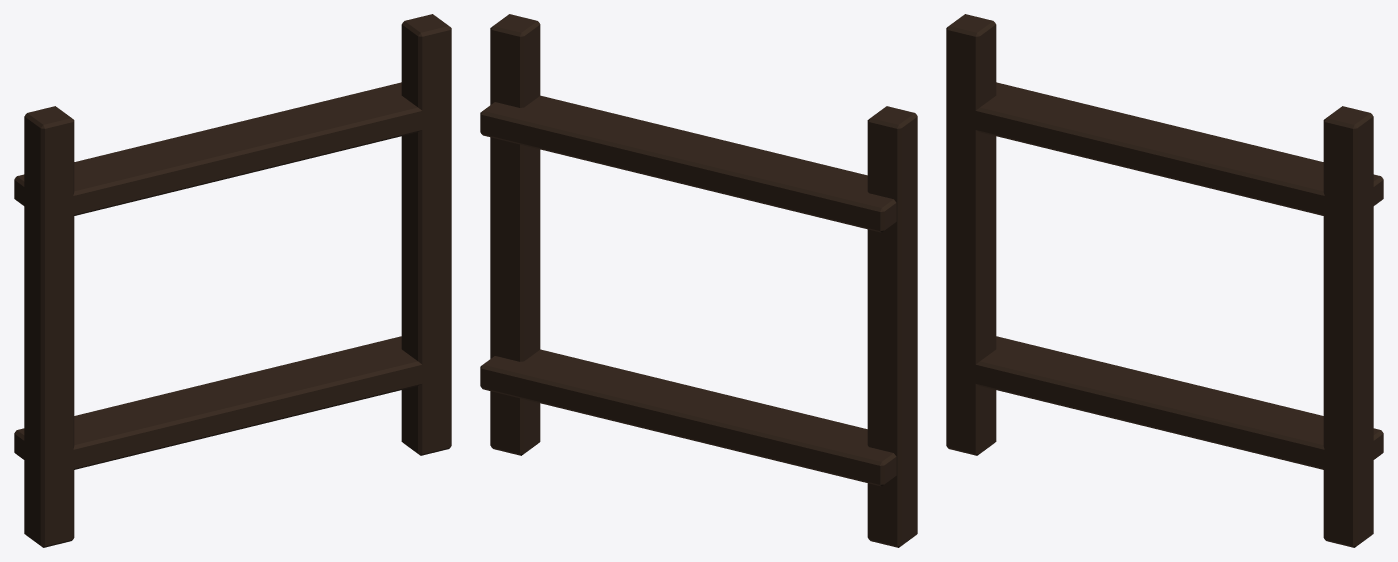
File: weapon_rack.fbx
The picture shows the model from 3 angles, left to right: view 1: azimuth 30°, elevation 25°; view 2: azimuth 150°, elevation 25°; view 3: azimuth 330°, elevation 25°; orthographic projection.
Parts seen in each view (by area): view 1: weapon_rack; view 2: weapon_rack; view 3: weapon_rack.
Boxes of the visible parts, x1,y1,x2,y2 form: weapon_rack: (14, 14, 451, 547); weapon_rack: (480, 14, 917, 547); weapon_rack: (946, 14, 1383, 547).
Bounding box in the file's own units: 610 × 600 × 85.
